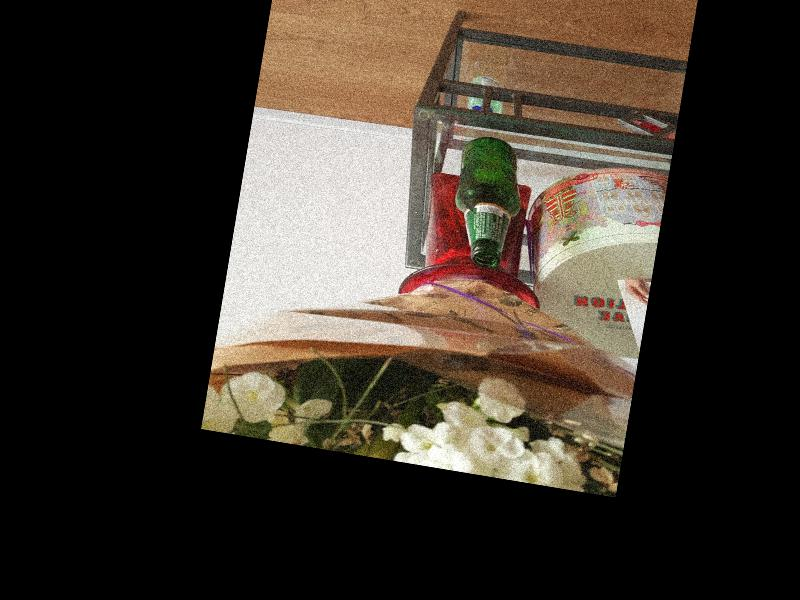Beer: (444, 131, 530, 270)
